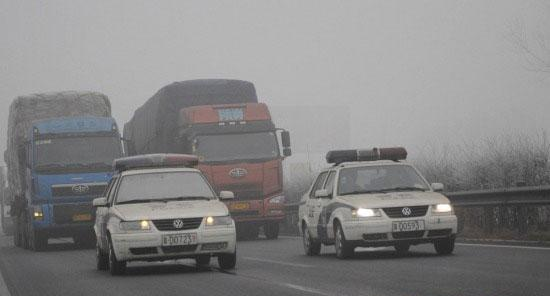bus: (121, 77, 293, 246), (4, 88, 137, 251)
car: (93, 151, 238, 275), (298, 147, 458, 258)
